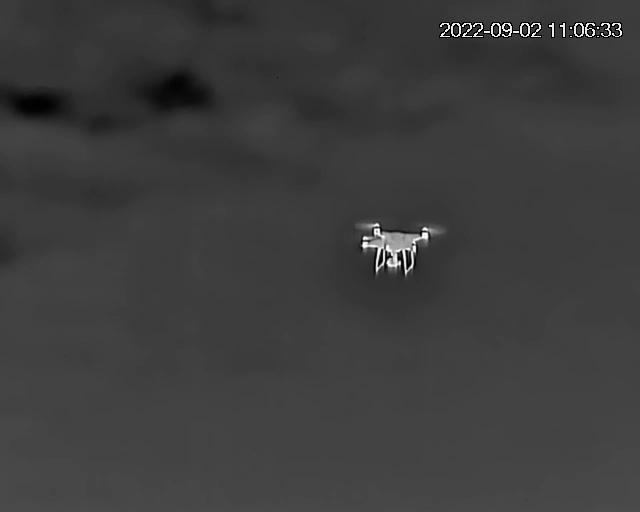DJI-Phantom: (356, 220, 441, 274)
